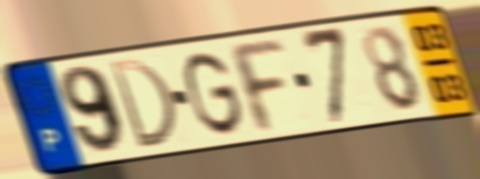7: (299, 23, 352, 130)
8: (362, 23, 424, 114)
9: (58, 62, 129, 158)
D: (105, 56, 180, 152)
F: (222, 37, 291, 137)
G: (182, 48, 247, 140)
